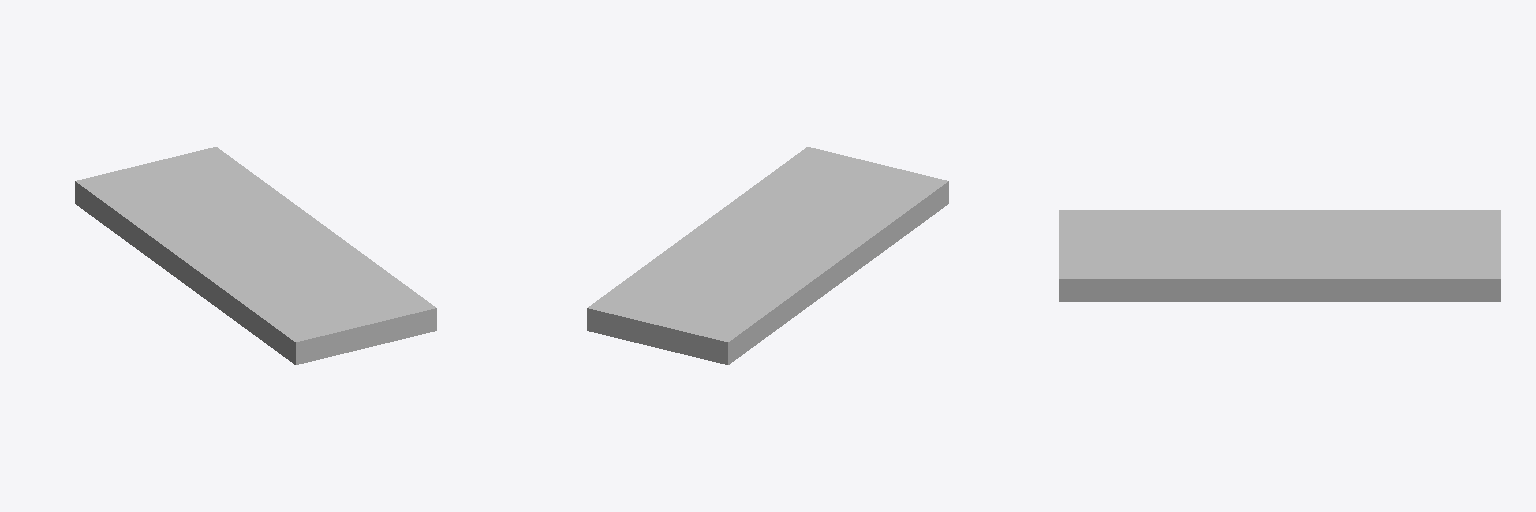
File: Road&Pave.obj
The picture shows the model from 3 angles: view 1: azimuth 30°, elevation 25°; view 2: azimuth 150°, elevation 25°; view 3: azimuth 270°, elevation 25°; orthographic projection.
Parts seen in each view (by area): view 1: pCube1; view 2: pCube1; view 3: pCube1.
Part boxes in pixels (x1,y1,x2,y2): pCube1: (75, 147, 436, 364); pCube1: (587, 147, 948, 364); pCube1: (1059, 210, 1500, 301).
Bounding box in the file's own units: 12.8 × 1.99 × 34.62.